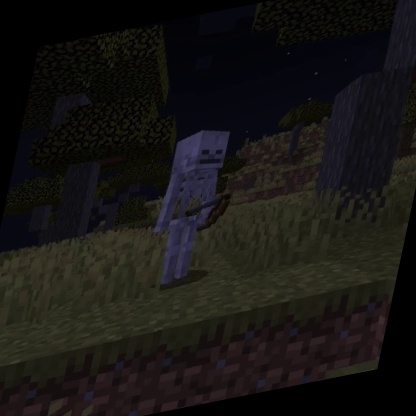skeleton: (135, 118, 251, 294)
